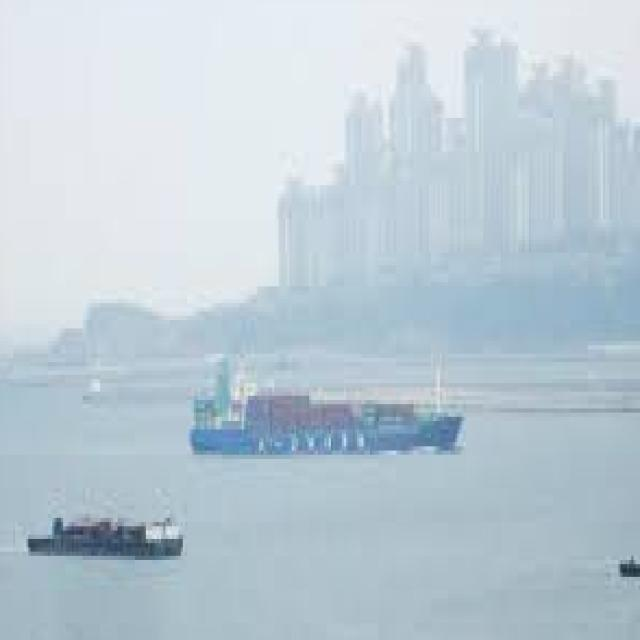cargoship: (187, 344, 465, 458), (28, 503, 182, 565)
fishing boat: (620, 518, 640, 581)
